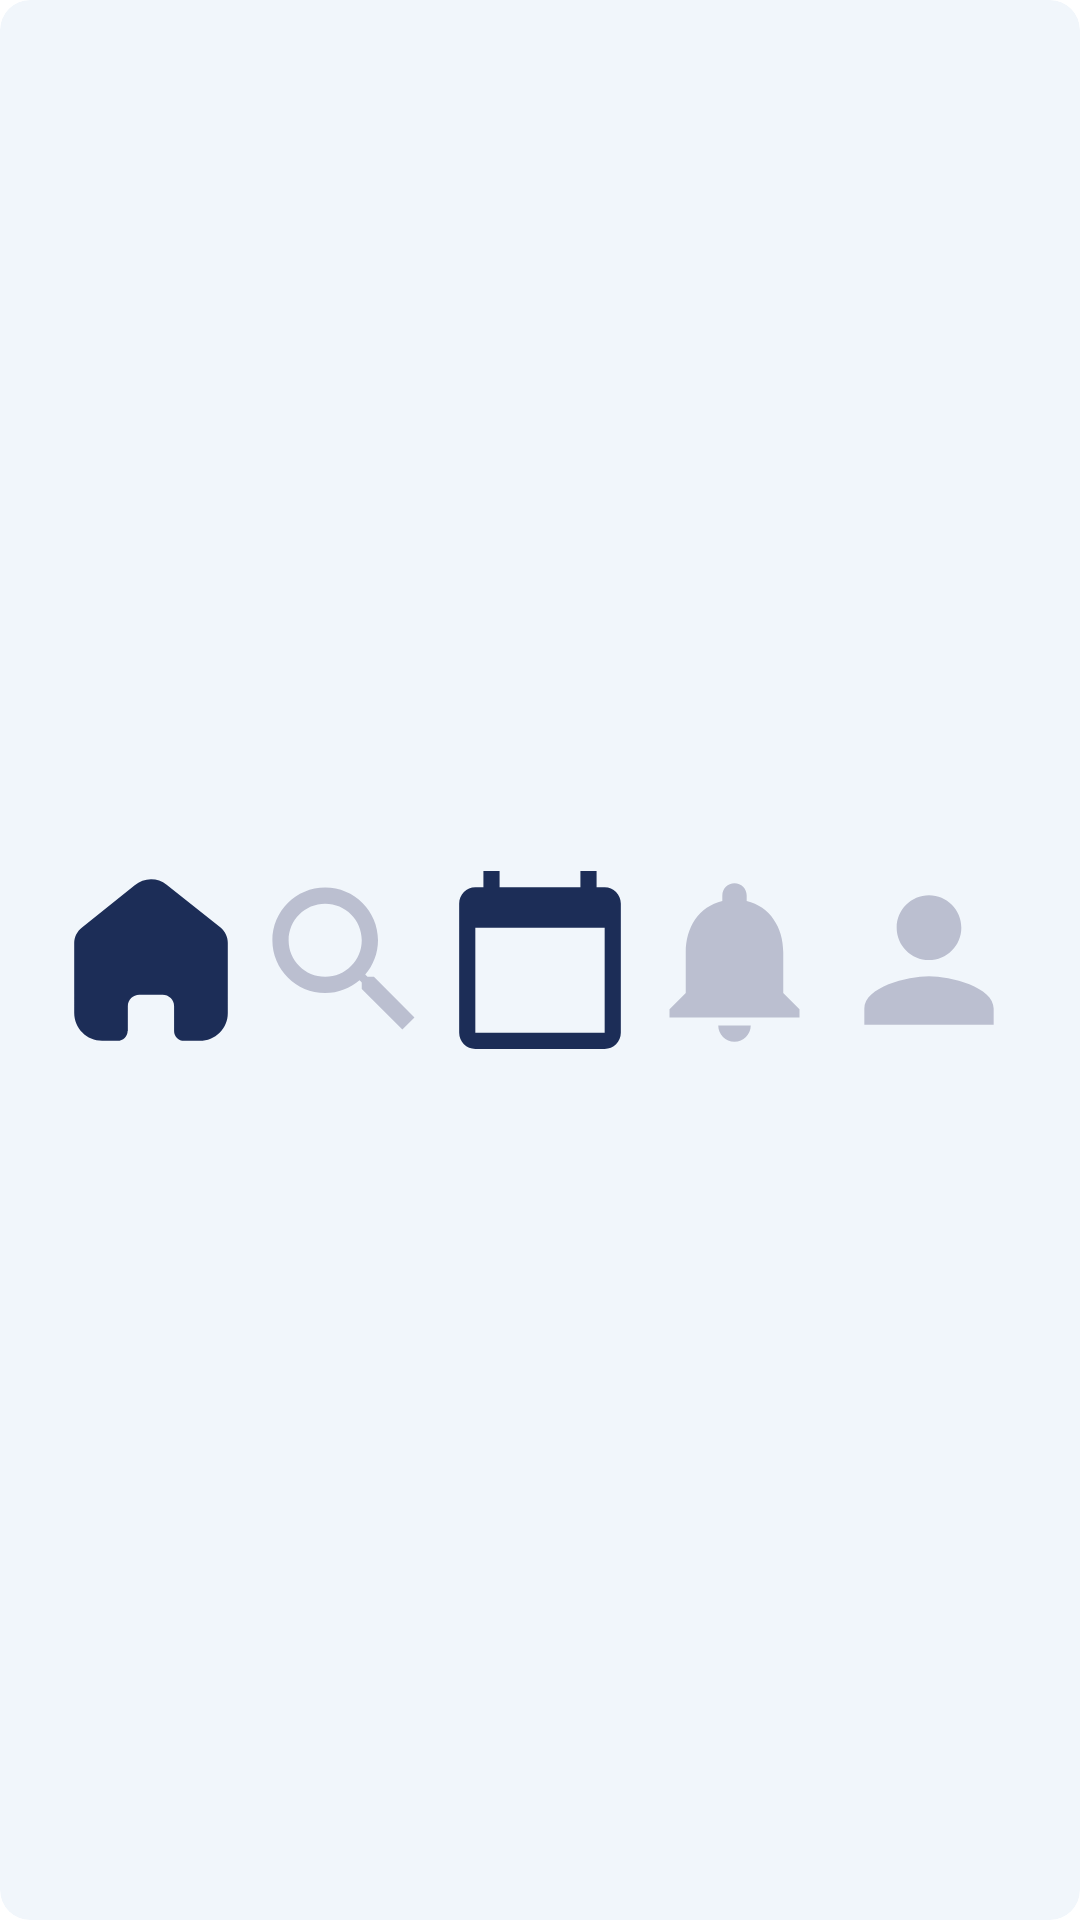

Where icons sit on this 1080×1920 app screen, as (x1, y1, x2, y2):
calendar: (459, 871, 621, 1049)
home: (74, 879, 228, 1041)
notifications: (669, 883, 800, 1042)
profile: (864, 895, 994, 1025)
search: (272, 887, 414, 1029)
